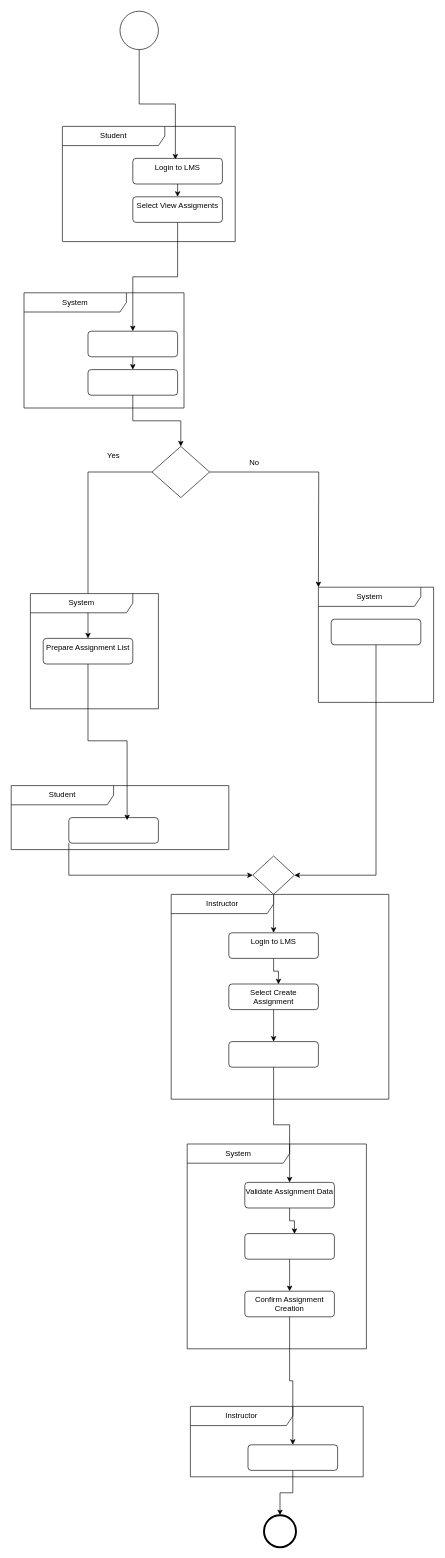
The diagram is 445 pixels wide and 1558 high, and some of its shapes have lost their labels. Here are the shapes that lost their labels. From the top down, the box of each, then its label:
(87, 331, 178, 357): Validate Student ID
(87, 369, 178, 395): Fetch Assigments from Database
(151, 446, 210, 498): Assigments Available
(331, 619, 421, 645): Display Error Message: No assigments available
(68, 817, 158, 843): View Assignment Details
(228, 1041, 318, 1067): Enter title , details and deadline
(244, 1233, 334, 1259): Store assignment in a database
(247, 1444, 338, 1470): Recieve Confirmation Message
